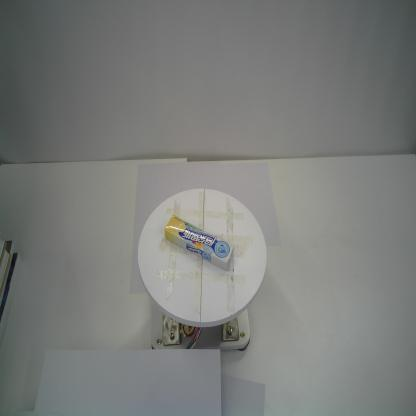Candy: (164, 214, 235, 272)
